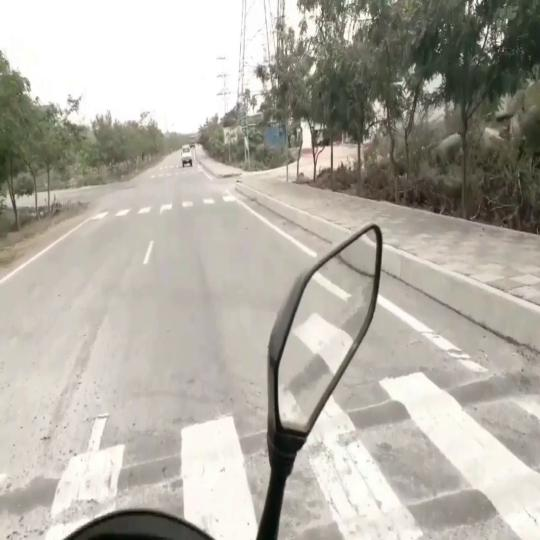Speed Bump: (0, 426, 267, 508), (290, 466, 540, 540), (338, 368, 540, 438)
